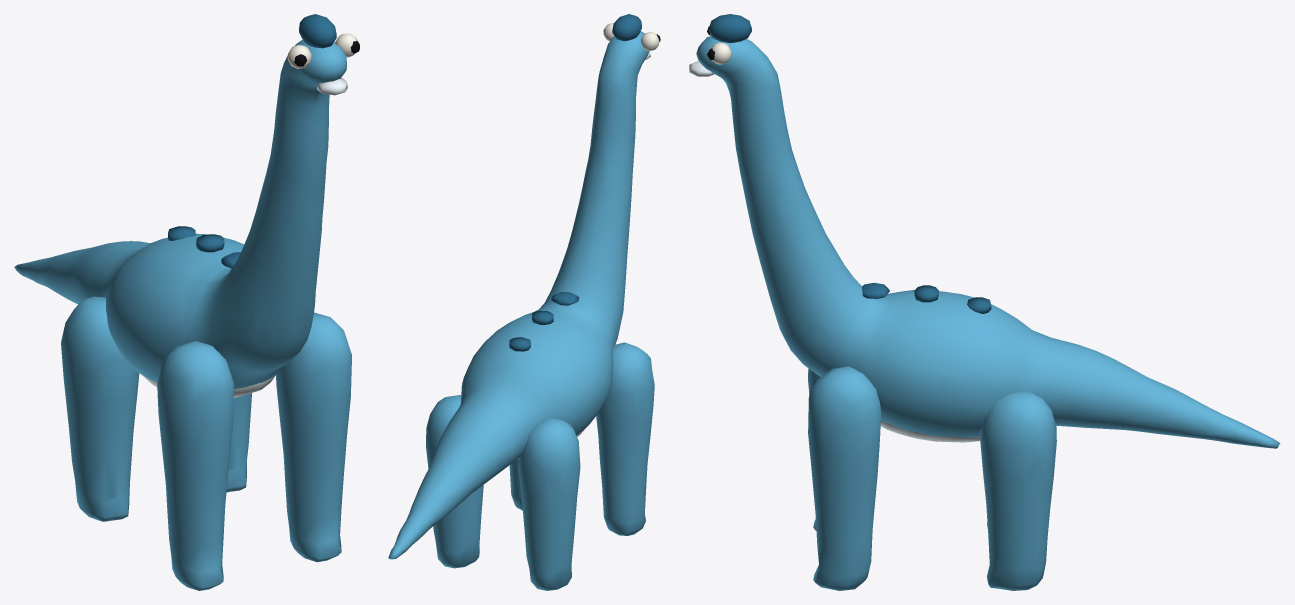
Rendered from Dino_Brachiosaurus.fbx.
3 renders of one model, left to right at view 1: azimuth 30°, elevation 25°; view 2: azimuth 150°, elevation 25°; view 3: azimuth 270°, elevation 25°, orthographic. The views are drawn at different scales.
Parts seen in each view (by area): view 1: Body, LegFL, LegFR, LegBL, Accent, LegBR, Belly, EyeWhite; view 2: Body, LegFL, LegBL, LegBR, Accent, LegFR, EyeWhite; view 3: Body, LegFR, LegBR, Accent, Belly.
Boxes of the visible parts, box(x1,y1,x2,y2) form: Body: box(14, 40, 346, 389); LegFL: box(157, 341, 234, 590); LegFR: box(276, 312, 351, 562); LegBL: box(61, 296, 139, 521); Accent: box(168, 14, 336, 268); LegBR: box(226, 393, 251, 492); Belly: box(142, 77, 347, 397); EyeWhite: box(287, 33, 357, 68); Body: box(388, 31, 649, 559); LegFL: box(596, 342, 654, 535); LegBL: box(518, 418, 580, 590); LegBR: box(426, 395, 483, 568); Accent: box(509, 14, 641, 351); LegFR: box(509, 459, 522, 510); EyeWhite: box(603, 23, 659, 50); Body: box(696, 36, 1280, 448); LegFR: box(808, 366, 881, 590); LegBR: box(979, 391, 1056, 590); Accent: box(708, 14, 991, 313); Belly: box(689, 60, 980, 442).
Bounding box in the file's own units: 2.97 × 9.21 × 9.03.
